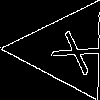X: (40, 24, 100, 77)
